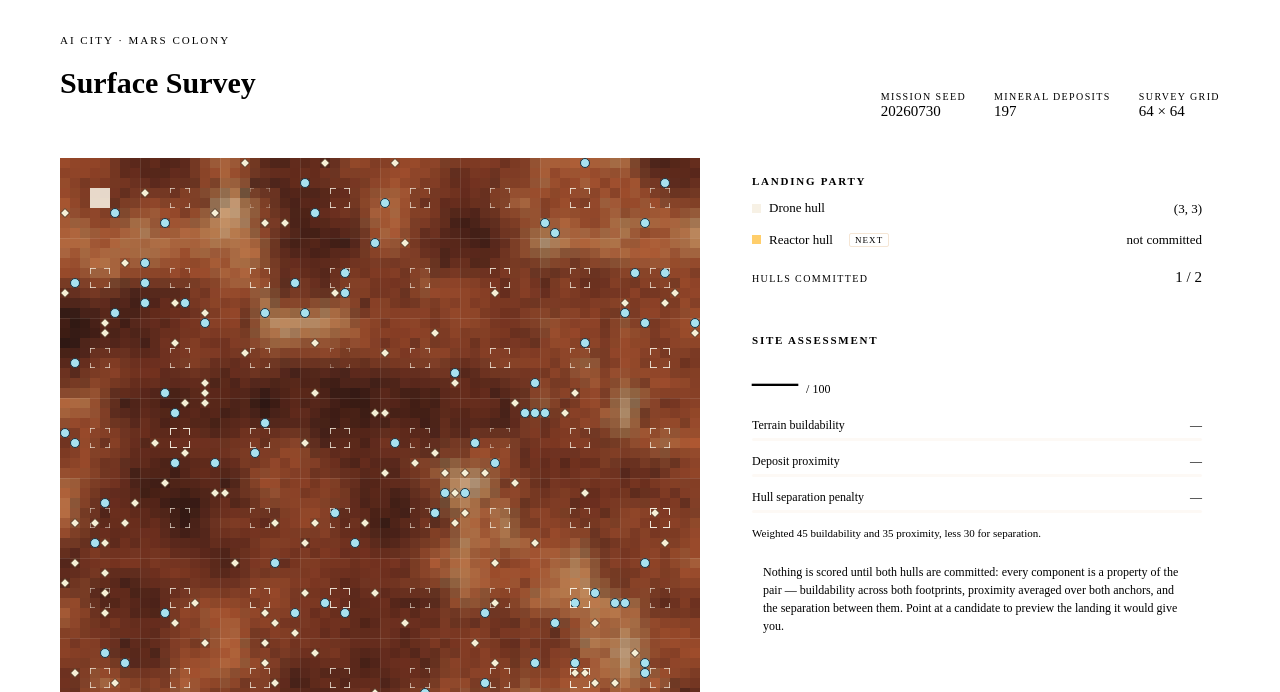
SurveyScreen — previewing a candidate before committing › should report an occupied anchor as committed, not as a refusal
Hover over the button named "Candidate touchdown point (3, 3) — drone hull committed here" at point(100, 198), box [86,184,114,212]
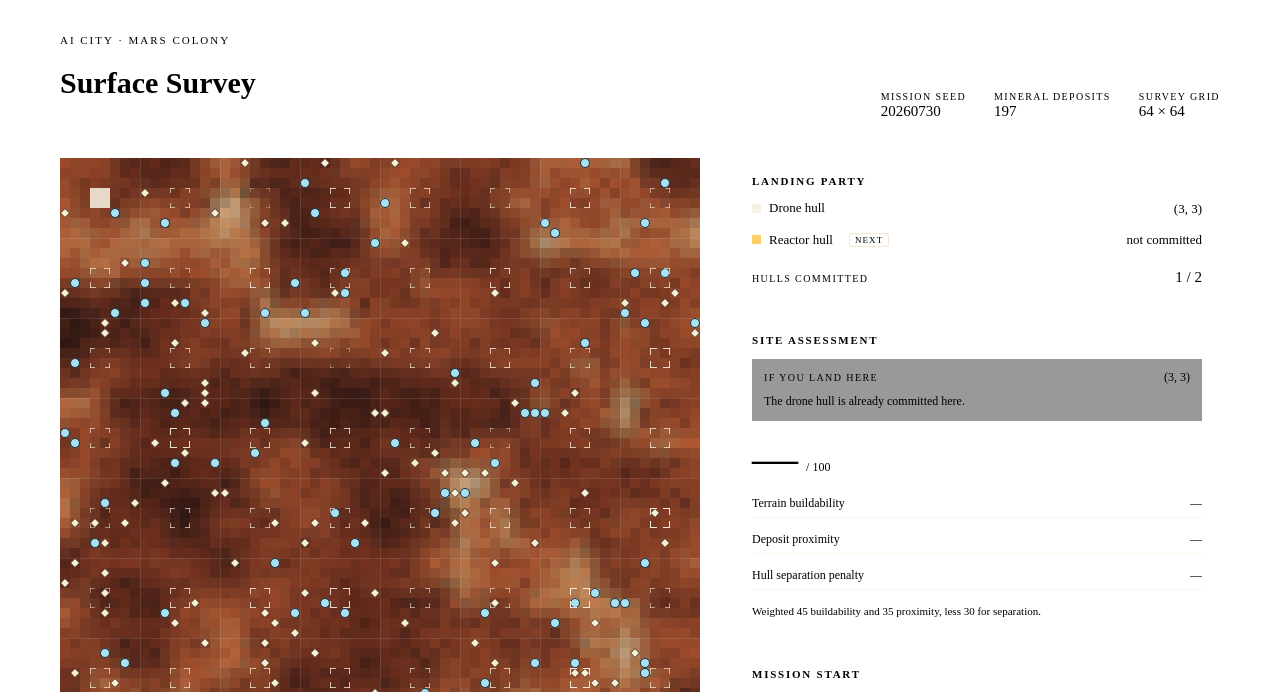
Result: the text "The drone hull is already committed here." is shown at [764,394,965,408]
